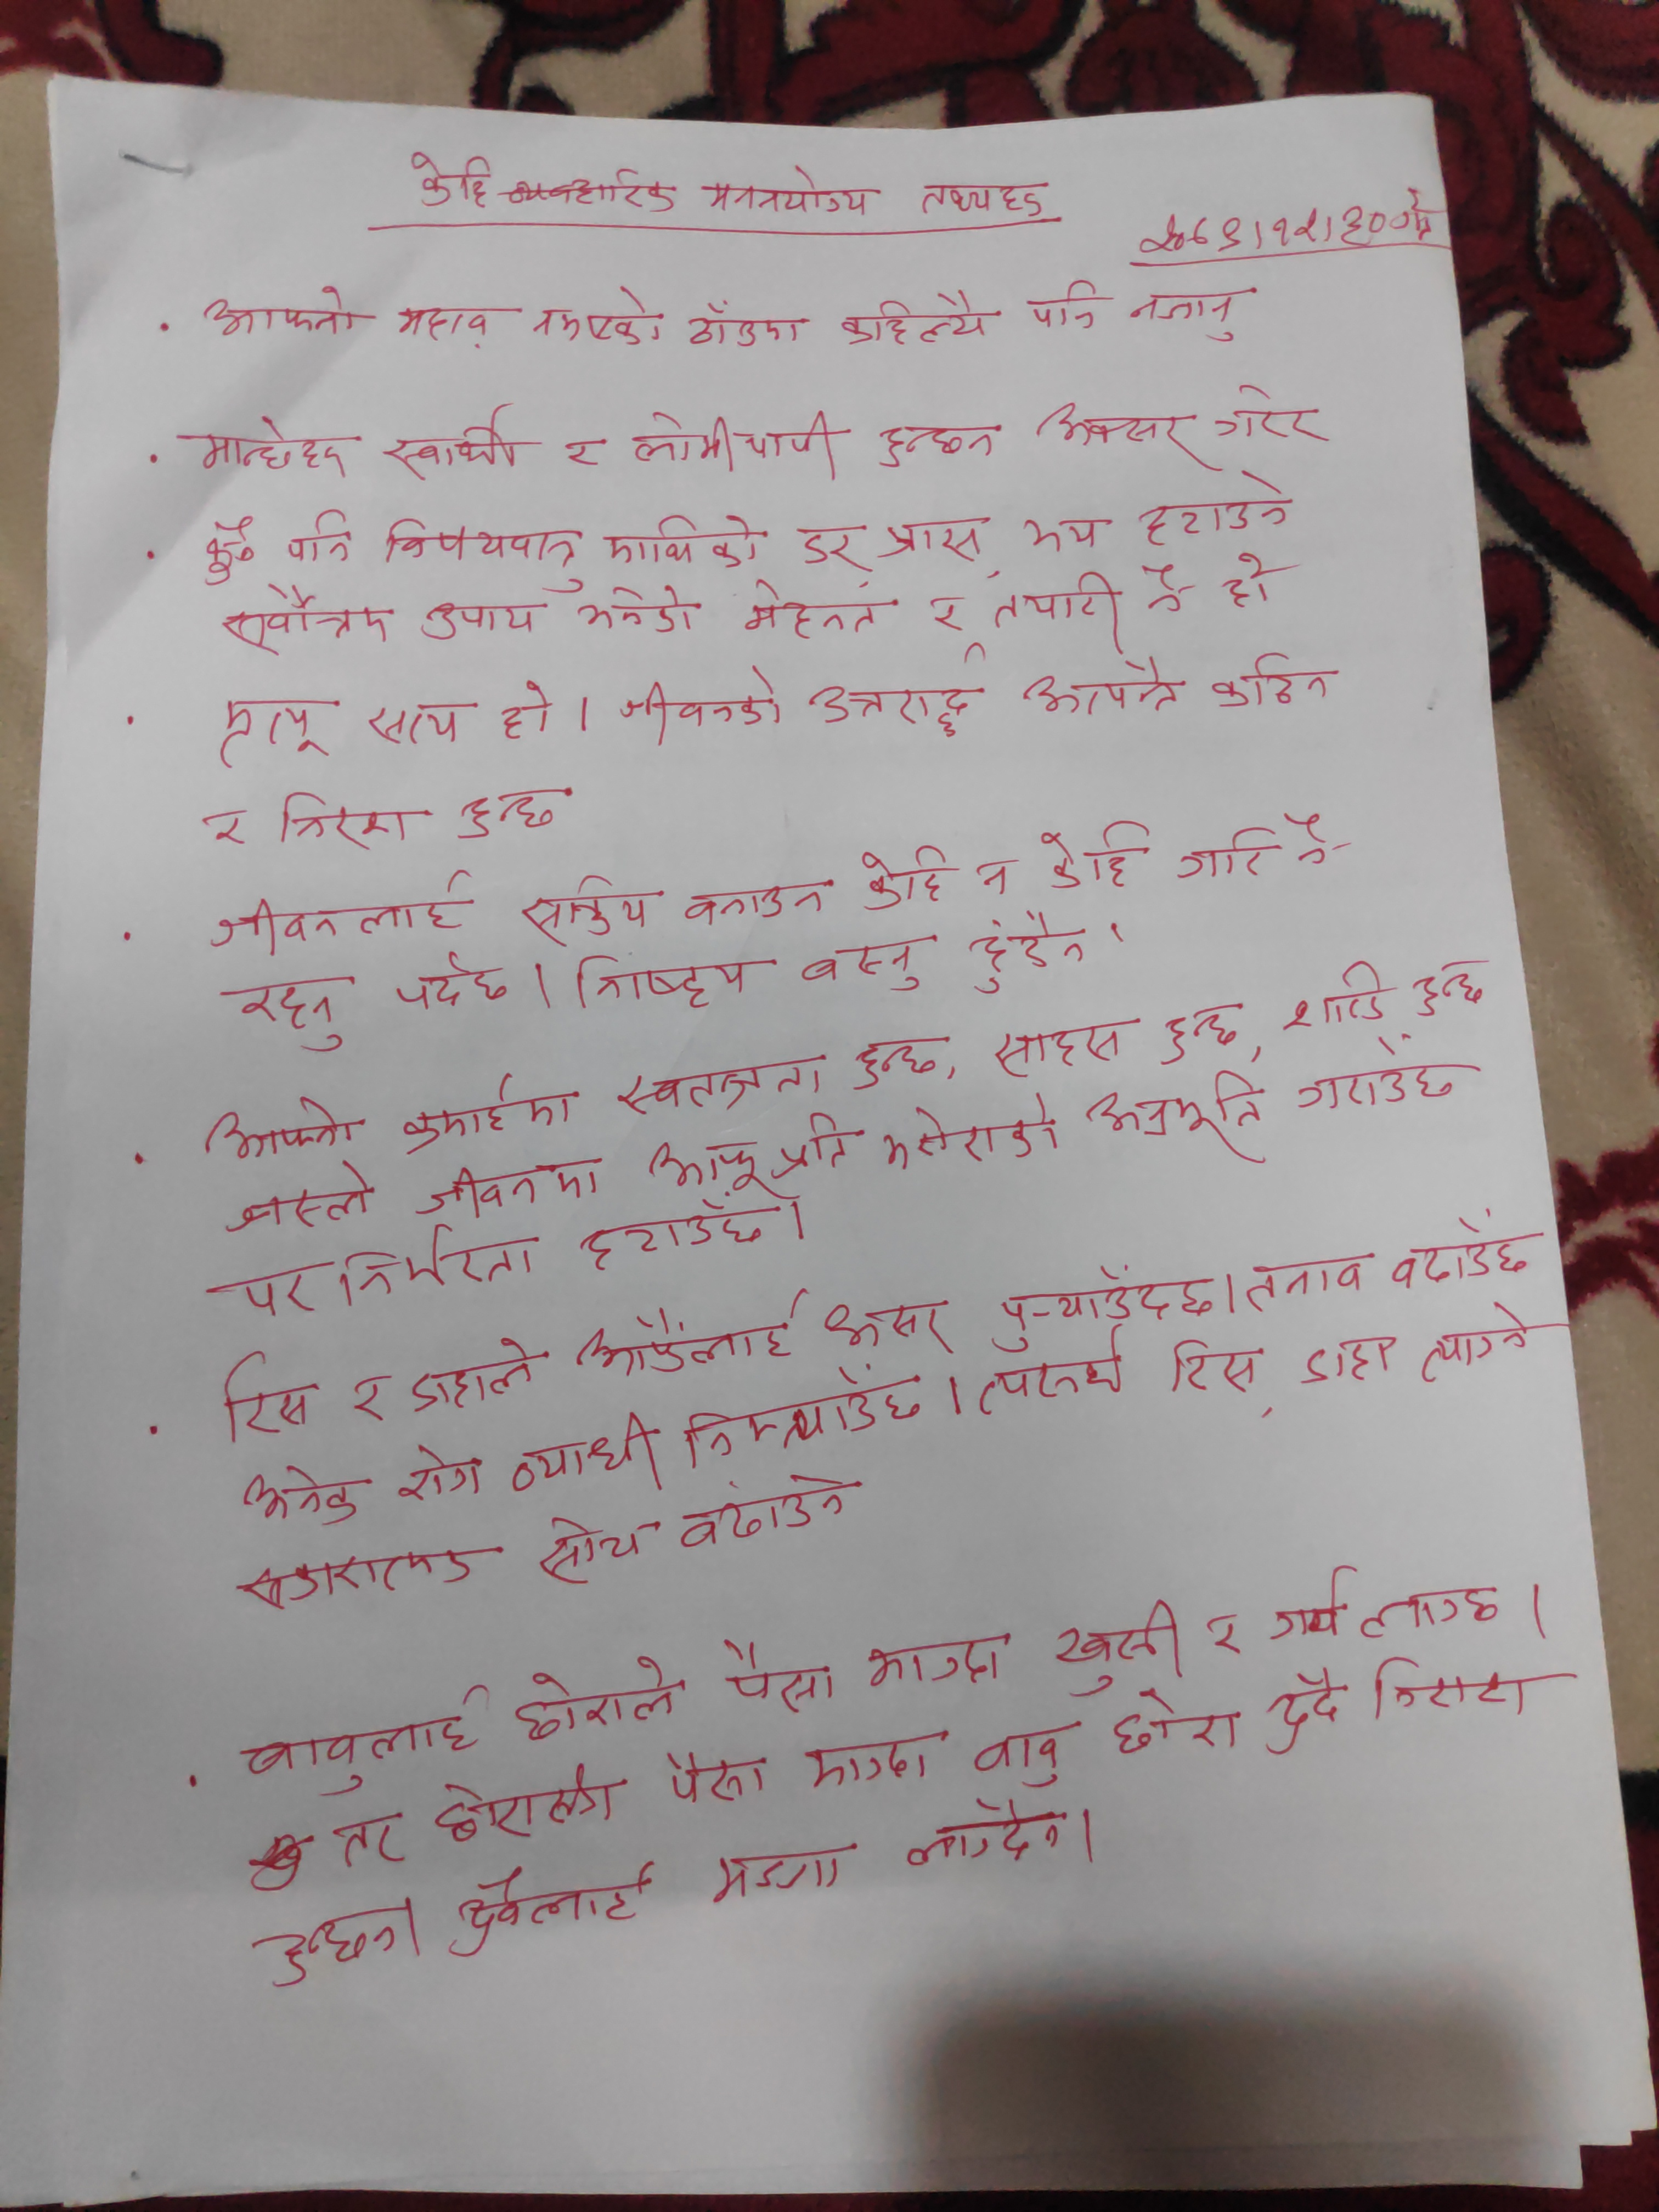text: (209, 1219, 547, 1324), (240, 1677, 486, 1794), (1129, 188, 1443, 263), (687, 1367, 920, 1465), (575, 1289, 805, 1379), (451, 1864, 660, 1959), (995, 1258, 1215, 1346), (211, 874, 469, 949), (1084, 1069, 1272, 1165), (234, 1547, 512, 1608), (261, 1895, 429, 1994), (429, 1766, 633, 1846), (667, 1472, 866, 1552), (572, 1195, 775, 1270), (511, 1656, 678, 1743), (399, 1071, 580, 1151), (1035, 397, 1209, 479), (615, 1049, 833, 1113), (1384, 1204, 1546, 1289), (502, 1409, 666, 1493), (566, 941, 756, 1012), (615, 665, 786, 744), (1366, 1649, 1554, 1719), (1049, 1599, 1183, 1695), (178, 415, 366, 482), (878, 1099, 1068, 1165), (979, 1331, 1133, 1413), (416, 1155, 601, 1223), (904, 1797, 1070, 1872), (218, 583, 394, 653), (1138, 469, 1293, 547), (805, 676, 985, 742), (211, 1352, 331, 1449), (699, 157, 880, 221), (225, 1160, 375, 1237), (960, 913, 1094, 996), (211, 974, 354, 1052), (1105, 1688, 1248, 1766), (1018, 651, 1187, 718), (509, 874, 660, 948), (380, 404, 525, 481), (376, 517, 586, 570), (1417, 1301, 1542, 1388), (199, 1097, 371, 1160), (207, 691, 333, 775), (983, 1015, 1136, 1083), (638, 1123, 774, 1200), (988, 570, 1126, 644), (716, 1632, 836, 1717), (195, 282, 366, 341), (406, 1338, 544, 1411), (1291, 1055, 1473, 1109), (737, 578, 889, 643), (1354, 1578, 1506, 1642), (599, 510, 770, 566), (535, 1508, 653, 1588), (234, 1460, 369, 1529), (530, 282, 673, 348), (272, 787, 425, 848), (814, 1296, 957, 1360), (805, 1728, 946, 1792), (863, 1634, 1014, 1693), (835, 289, 995, 345), (1126, 282, 1260, 348), (1244, 1254, 1380, 1318), (624, 401, 741, 475), (1035, 819, 1154, 892), (741, 408, 854, 482), (1209, 650, 1337, 716), (852, 834, 960, 911), (383, 949, 512, 1012), (1284, 961, 1394, 1035), (803, 937, 938, 996), (681, 873, 833, 925), (706, 1843, 843, 1900), (1263, 1667, 1349, 1757), (680, 293, 809, 352), (842, 1031, 955, 1097), (910, 176, 1063, 225), (573, 580, 695, 641), (1211, 385, 1326, 449), (964, 1721, 1075, 1787), (451, 784, 572, 843), (416, 592, 551, 644), (1175, 819, 1270, 890), (1267, 1564, 1347, 1649), (659, 1745, 770, 1806), (390, 1439, 490, 1507), (1297, 1329, 1403, 1392), (1162, 1332, 1265, 1397), (394, 150, 493, 216), (361, 691, 472, 749), (877, 510, 995, 564), (873, 421, 1004, 470), (1155, 998, 1248, 1066), (1406, 951, 1495, 1019), (770, 1116, 864, 1179), (392, 296, 509, 343), (1215, 550, 1295, 618), (326, 1810, 410, 1874), (1025, 273, 1107, 331), (793, 521, 875, 578), (193, 517, 256, 589), (282, 509, 357, 566), (495, 681, 558, 749), (1019, 509, 1107, 557), (1136, 561, 1197, 622), (342, 1366, 390, 1428), (1281, 810, 1331, 869), (1199, 1604, 1249, 1663), (204, 799, 254, 853), (558, 425, 606, 479), (974, 848, 1019, 900), (920, 590, 974, 634)
